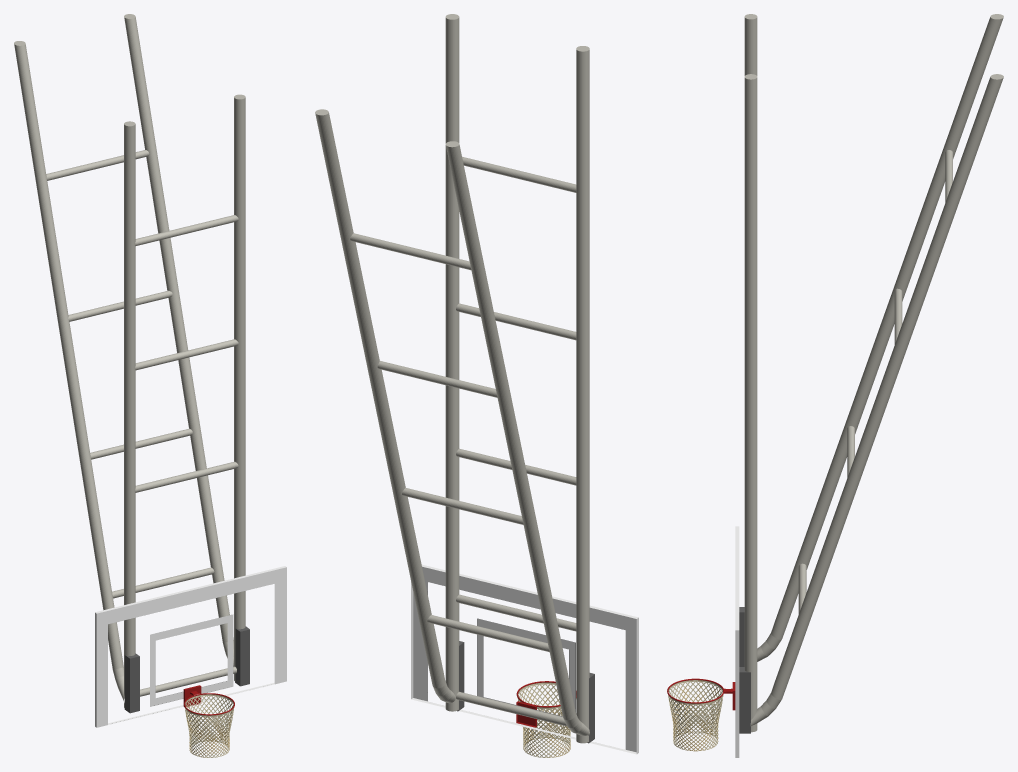
Rendered from BasketballGoal.fbx.
3 renders of one model, left to right at view 1: azimuth 30°, elevation 25°; view 2: azimuth 150°, elevation 25°; view 3: azimuth 270°, elevation 25°, orthographic. The views are drawn at different scales.
Parts seen in each view (by area): view 1: BasketballGoal; view 2: BasketballGoal; view 3: BasketballGoal.
Boxes of the visible parts, box(x1,y1,x2,y2) form: BasketballGoal: box(14, 14, 286, 757); BasketballGoal: box(315, 14, 638, 757); BasketballGoal: box(667, 14, 1003, 757).
Bounding box in the file's own units: 872 × 2719 × 1194.
